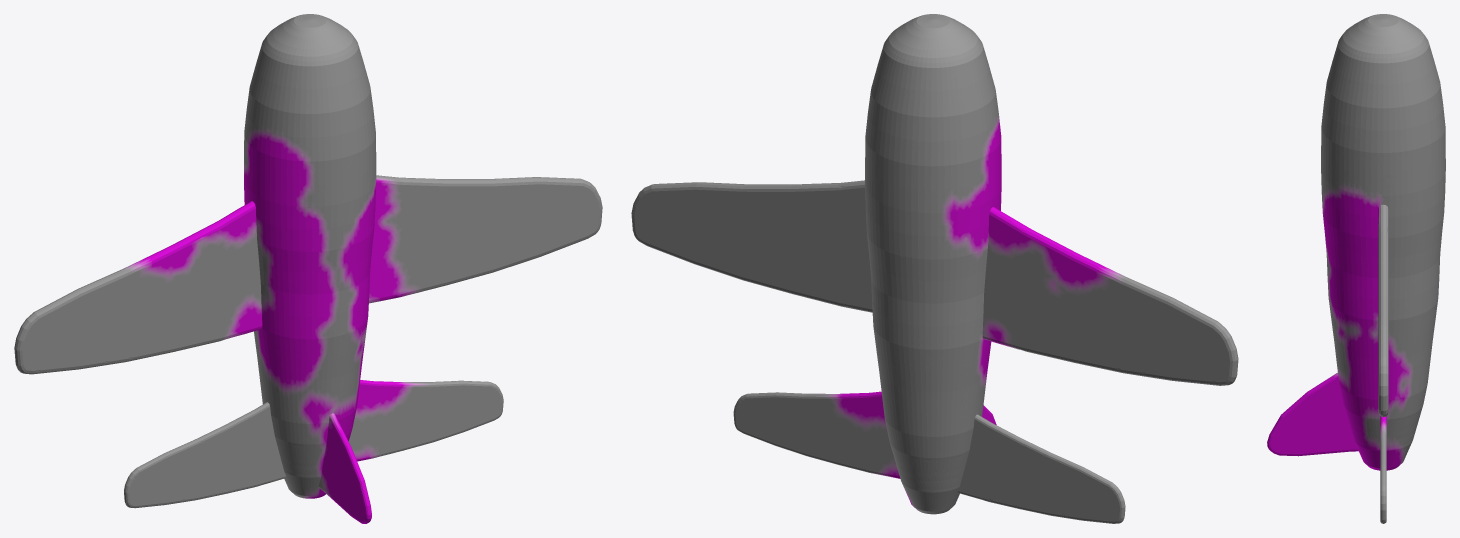
File: airplane.glb
3 renders of one model, left to right at view 1: azimuth 30°, elevation 25°; view 2: azimuth 150°, elevation 25°; view 3: azimuth 270°, elevation 25°, orthographic. The views are drawn at different scales.
Visible parts, largest first — view 1: airplane.obj; view 2: airplane.obj; view 3: airplane.obj.
Boxes of the visible parts, x1,y1,x2,y2 form: airplane.obj: (14,14,602,523); airplane.obj: (631,14,1238,523); airplane.obj: (1267,14,1445,523).
Bounding box in the file's own units: 0.1784 × 0.138 × 0.0499.
